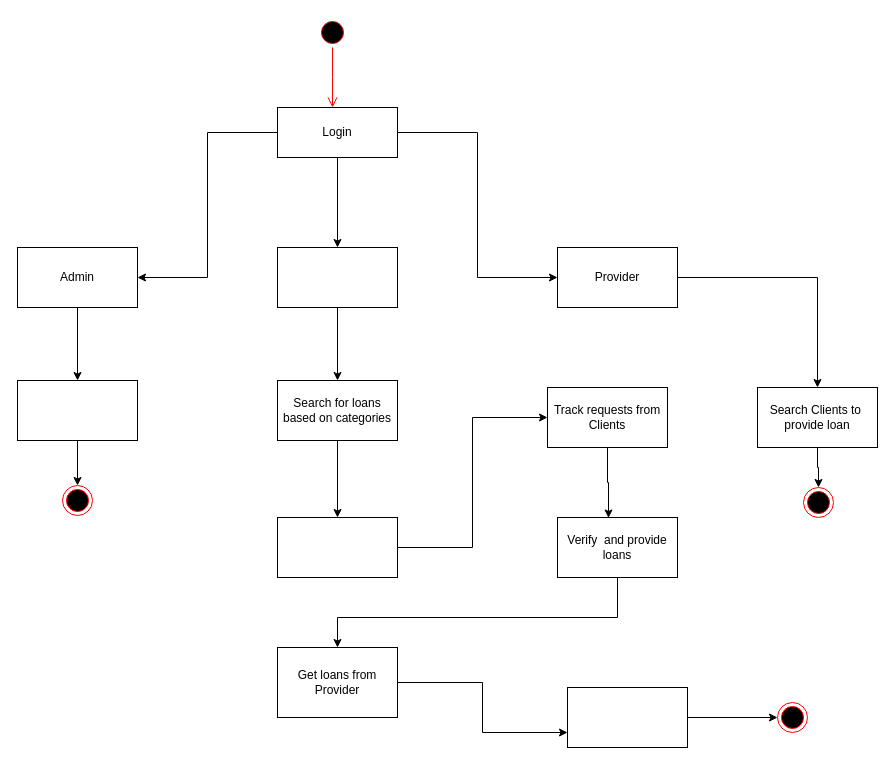
The diagram is 895 pixels wide and 765 high, and some of its shapes have lost their labels. The shapes that lost their labels are listed below. From the top down, each one's centre as x and y in pixels, then its label:
(x=337, y=277): Client
(x=77, y=410): Manage Access to Client and Provider
(x=337, y=547): Request for loan from providers
(x=627, y=717): After duration collects the loan amount
